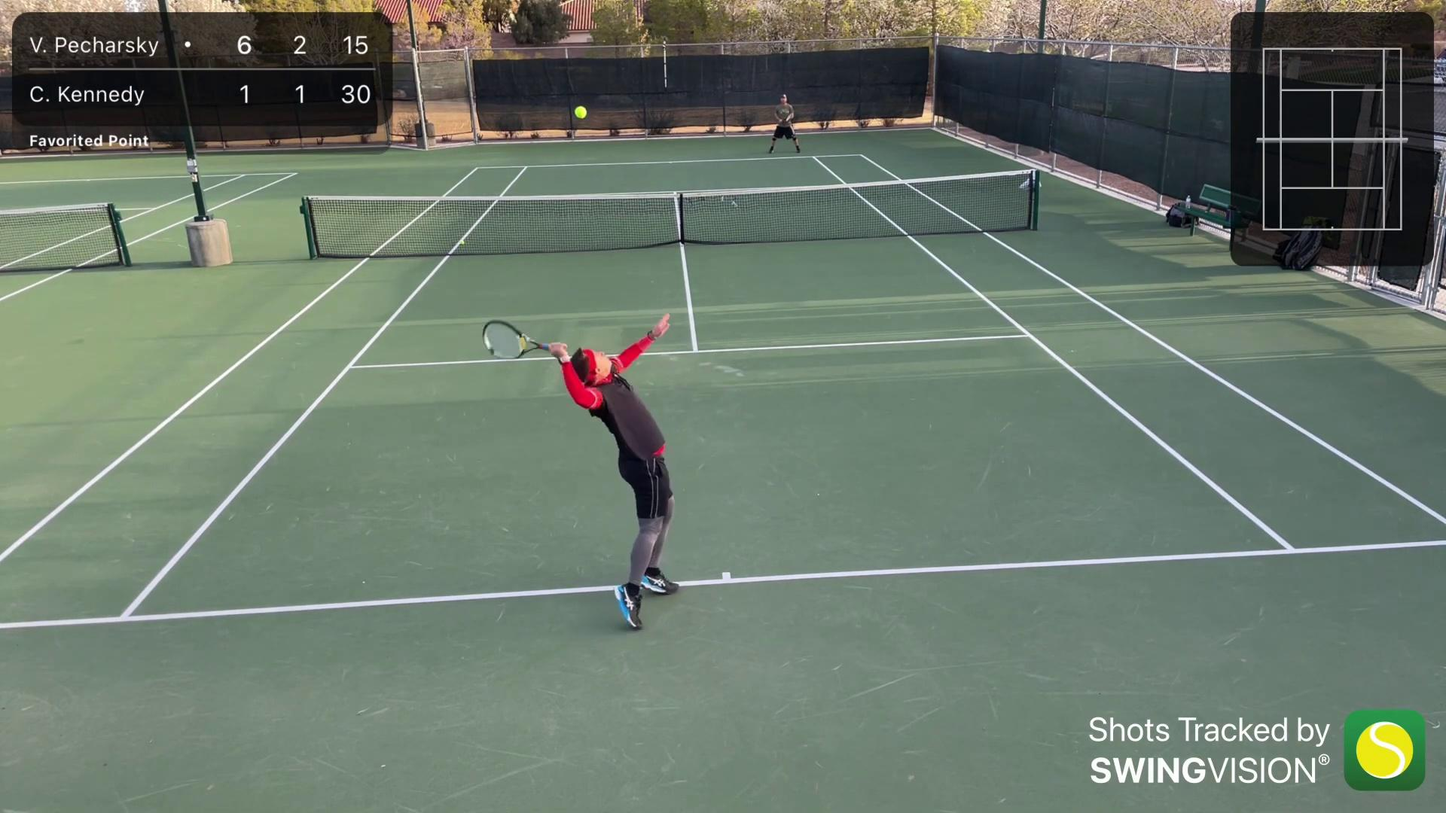ball: (570, 105, 589, 121)
